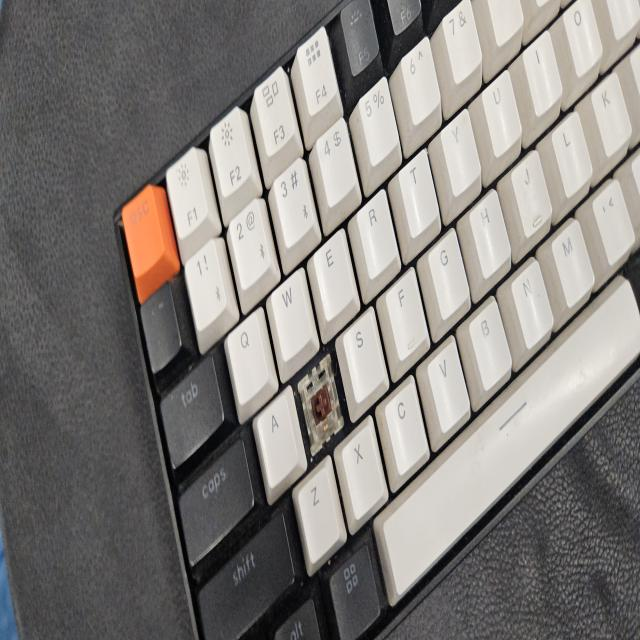C: (305, 378, 336, 427)
